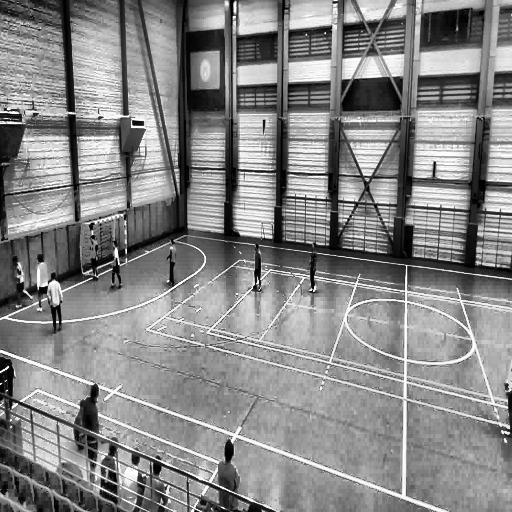player: (34, 253, 51, 313), (502, 338, 512, 436), (47, 273, 63, 332), (11, 254, 25, 304), (110, 240, 123, 289), (167, 240, 178, 286), (90, 234, 100, 282), (253, 244, 261, 290), (309, 246, 316, 293)
